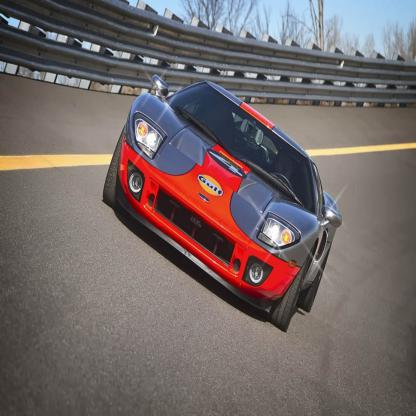Vehicle: (103, 76, 341, 332)
